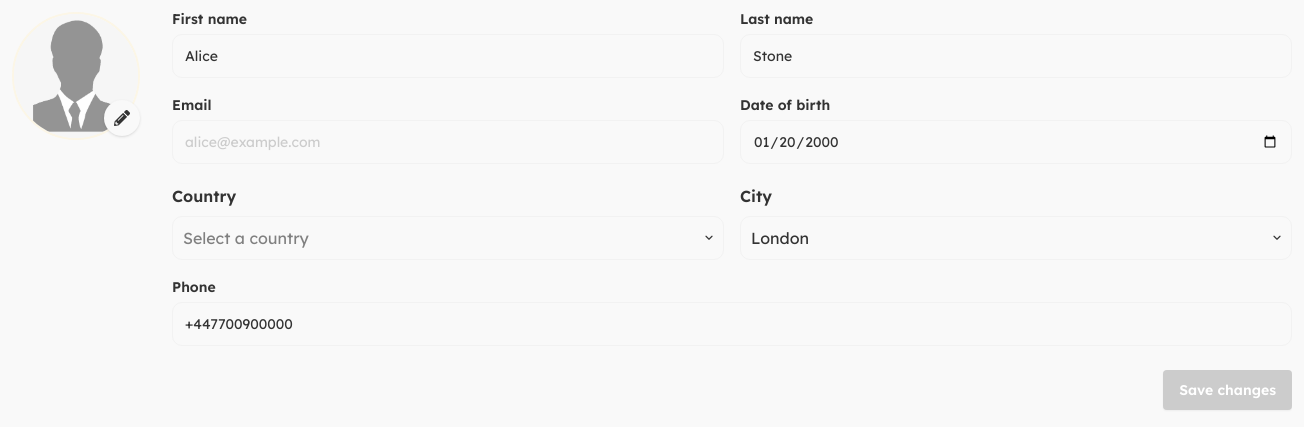
Test: EditProfileTab › submits patch only with changed values
The image size is (1304, 427).
Expected: the button "Save changes" is disabled, [1163,370,1292,410]
Replace the text in the field labelled "Last name" with "Walker": (1016, 56) [753,46,1279,66]
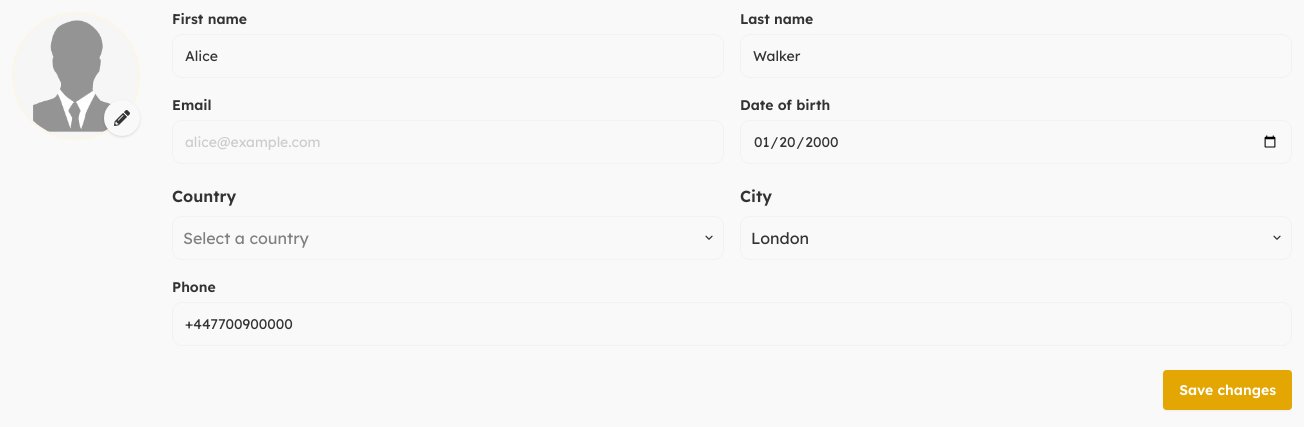
Result: the button "Save changes" is enabled at [1163,370,1292,410]
Replace the text in the field labelled "Last name" with "Stone": (1016, 56) [753,46,1279,66]
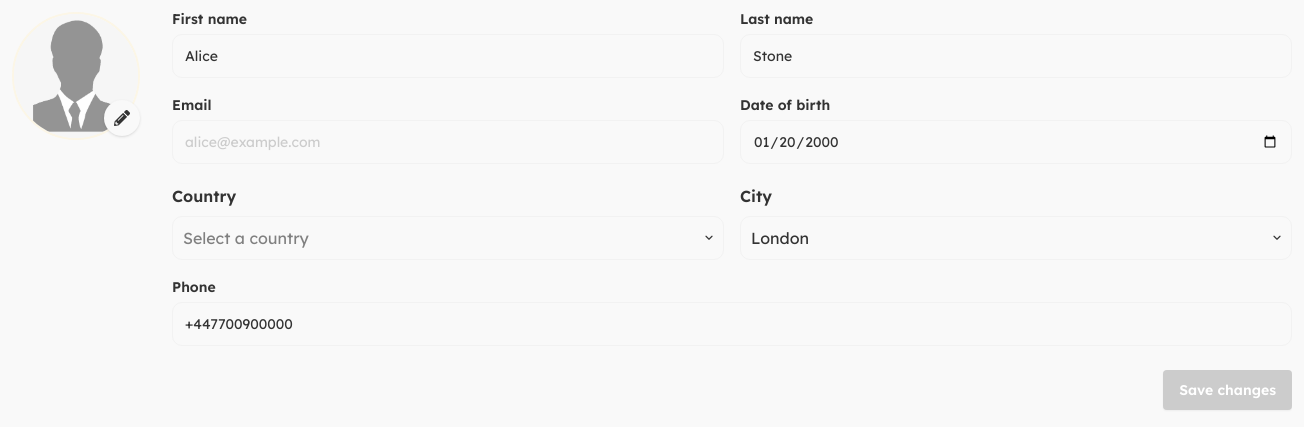
Result: the button "Save changes" is disabled at [1163,370,1292,410]
Replace the text in the field labelled "Last name" with "Walker": (1016, 56) [753,46,1279,66]
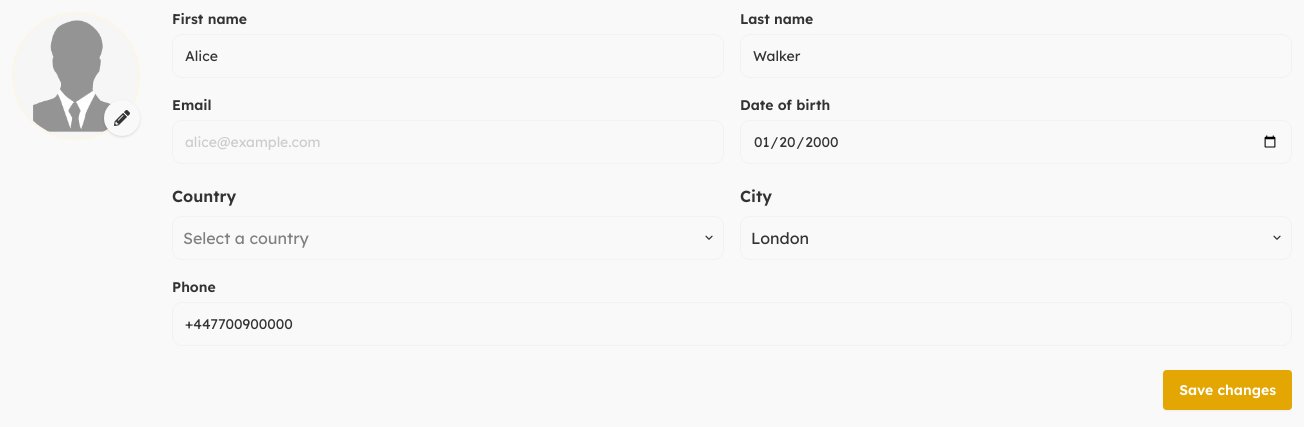
Click the button "Save changes": (1228, 390) [1163,370,1292,410]
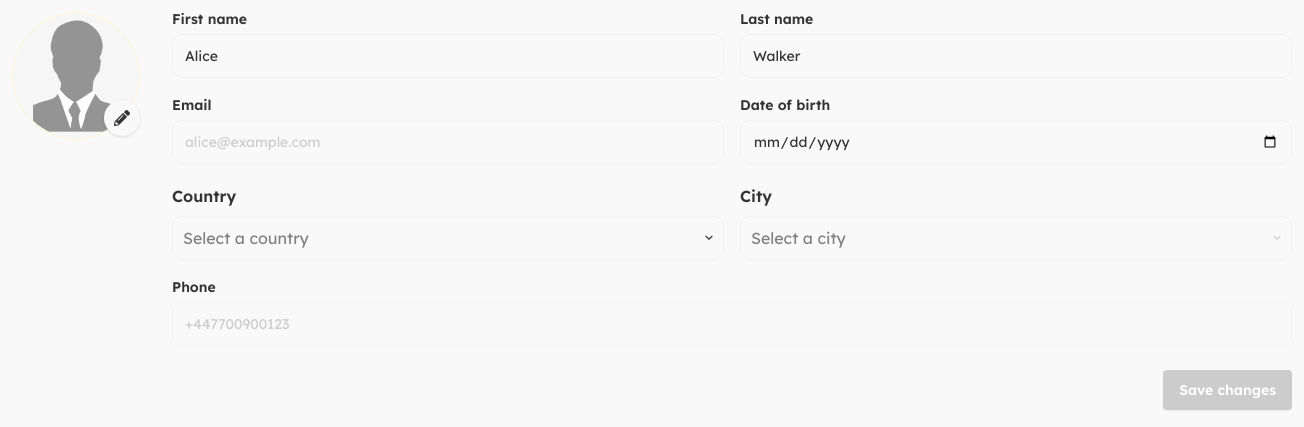
Result: the button "Save changes" is disabled at [1163,370,1292,410]
